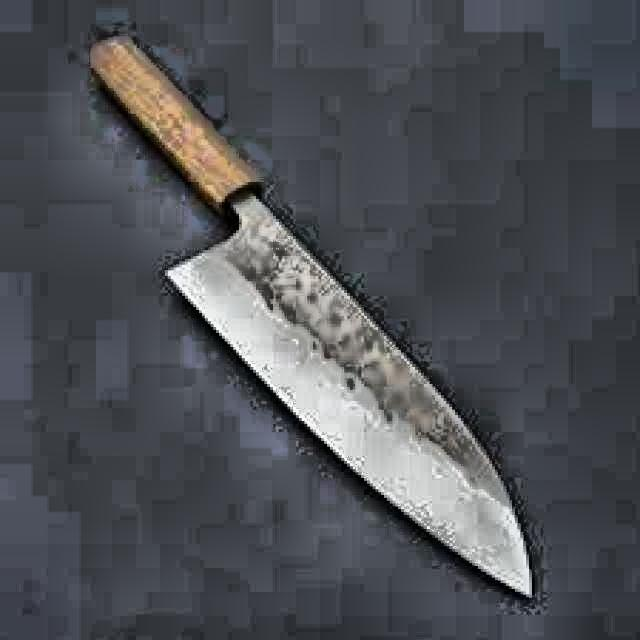knife: (85, 30, 548, 608)
